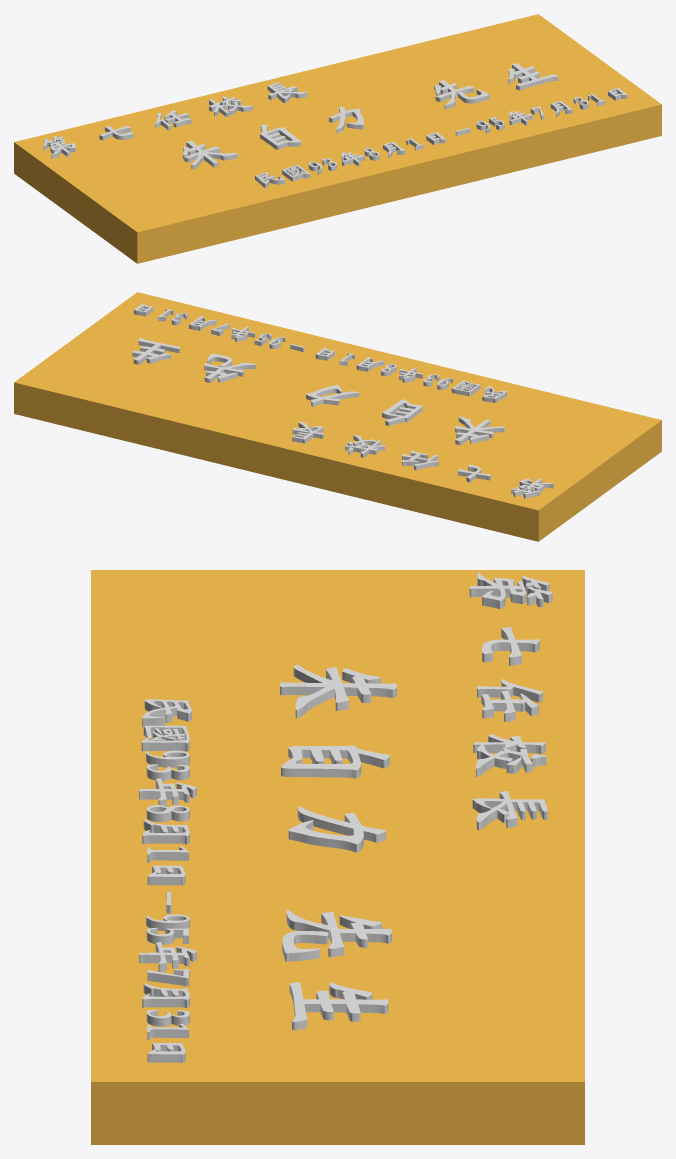
File: 第七任.FBX
The picture shows the model from 3 angles, top to bottom: view 1: azimuth 30°, elevation 25°; view 2: azimuth 150°, elevation 25°; view 3: azimuth 270°, elevation 25°; orthographic projection. The views are drawn at different scales.
Parts seen in each view (by area): view 1: Box002, Text022, Text024, Text023; view 2: Box002, Text022, Text024, Text023; view 3: Box002, Text022, Text024, Text023.
Part boxes in pixels (x1=…): Box002: x1=14, y1=14, x2=661, y2=263; Text022: x1=182, y1=63, x2=558, y2=169; Text024: x1=255, y1=88, x2=627, y2=187; Text023: x1=43, y1=82, x2=307, y2=158; Box002: x1=14, y1=292, x2=661, y2=541; Text022: x1=132, y1=337, x2=504, y2=445; Text024: x1=134, y1=303, x2=506, y2=403; Text023: x1=292, y1=421, x2=553, y2=498; Box002: x1=91, y1=570, x2=584, y2=1144; Text022: x1=280, y1=664, x2=396, y2=1030; Text024: x1=139, y1=699, x2=196, y2=1062; Text023: x1=469, y1=572, x2=552, y2=830.
Bounding box in the file's own units: 469 × 30.46 × 191.
